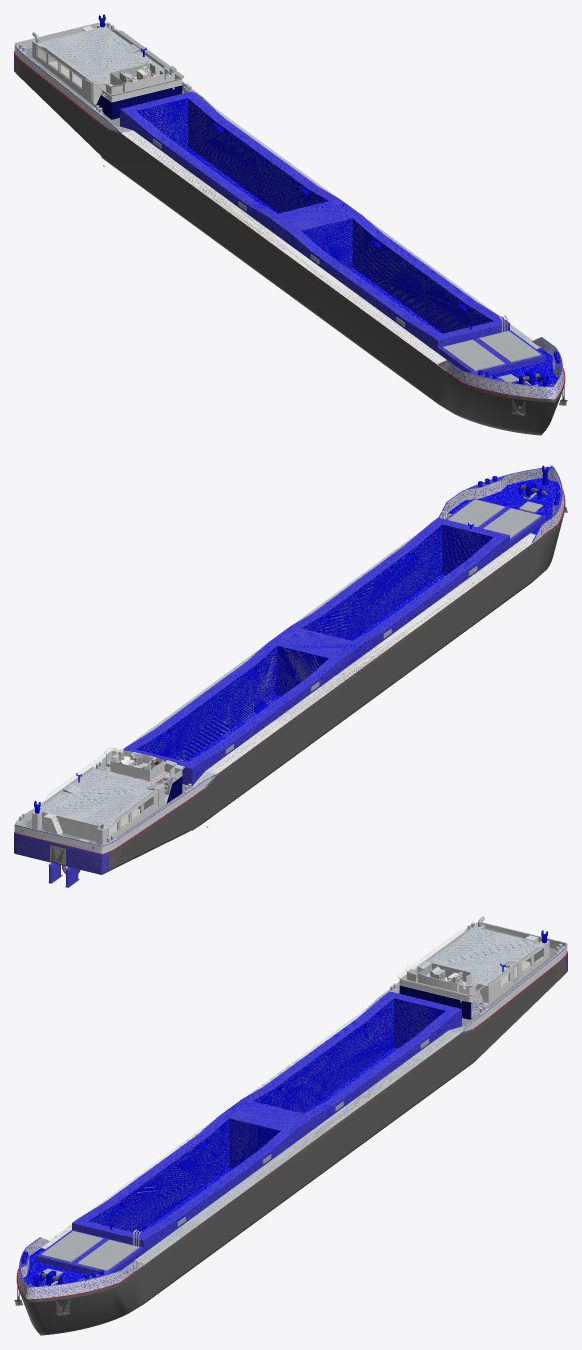
File: barge_ship.glb
The picture shows the model from 3 angles, top to bottom: view 1: azimuth 30°, elevation 25°; view 2: azimuth 150°, elevation 25°; view 3: azimuth 330°, elevation 25°; orthographic projection.
Parts seen in each view (by area): view 1: SketchUp.131, SketchUp.133, SketchUp.135, SketchUp.134, SketchUp.169, SketchUp.006, SketchUp.043, SketchUp.070, SketchUp.190, instance_54, instance_58, SketchUp.175 (+4 smaller); view 2: SketchUp.131, SketchUp.133, SketchUp.134, SketchUp.135, SketchUp.169, SketchUp.006, SketchUp.043, SketchUp.070, SketchUp.088, SketchUp.159, SketchUp.132, instance_59 (+5 smaller); view 3: SketchUp.131, SketchUp.133, SketchUp.135, SketchUp.134, SketchUp.175, SketchUp.006, SketchUp.043, SketchUp.070, SketchUp.190, instance_54, instance_58, SketchUp.169 (+4 smaller).
Part boxes in pixels (left/top/right/bottom): SketchUp.131: left=24, top=67, right=561, bottom=435; SketchUp.133: left=120, top=91, right=545, bottom=375; SketchUp.135: left=136, top=98, right=328, bottom=213; SketchUp.134: left=301, top=218, right=493, bottom=333; SketchUp.169: left=117, top=126, right=446, bottom=364; SketchUp.006: left=33, top=25, right=163, bottom=83; SketchUp.043: left=32, top=24, right=184, bottom=106; SketchUp.070: left=15, top=56, right=565, bottom=402; SketchUp.190: left=437, top=360, right=564, bottom=399; instance_54: left=479, top=331, right=540, bottom=362; instance_58: left=442, top=339, right=504, bottom=371; SketchUp.175: left=215, top=110, right=540, bottom=348; SketchUp.131: left=121, top=517, right=563, bottom=863; SketchUp.133: left=123, top=498, right=545, bottom=785; SketchUp.134: left=301, top=524, right=493, bottom=640; SketchUp.135: left=136, top=645, right=328, bottom=761; SketchUp.169: left=192, top=533, right=535, bottom=786; SketchUp.006: left=33, top=769, right=162, bottom=829; SketchUp.043: left=32, top=750, right=184, bottom=845; SketchUp.070: left=62, top=505, right=565, bottom=874; SketchUp.088: left=14, top=833, right=108, bottom=874; SketchUp.159: left=448, top=478, right=560, bottom=534; SketchUp.132: left=439, top=468, right=561, bottom=518; instance_59: left=104, top=747, right=176, bottom=783; SketchUp.131: left=20, top=967, right=557, bottom=1335; SketchUp.133: left=36, top=991, right=461, bottom=1275; SketchUp.135: left=253, top=998, right=445, bottom=1113; SketchUp.134: left=88, top=1118, right=280, bottom=1233; SketchUp.175: left=135, top=1026, right=464, bottom=1264; SketchUp.006: left=418, top=925, right=548, bottom=985; SketchUp.043: left=397, top=924, right=549, bottom=1006; SketchUp.070: left=16, top=956, right=566, bottom=1302; SketchUp.190: left=17, top=1260, right=143, bottom=1299; instance_54: left=77, top=1239, right=139, bottom=1271; instance_58: left=41, top=1231, right=102, bottom=1262; SketchUp.169: left=41, top=1010, right=366, bottom=1248.
Size of the model in its own units: 390 by 252 by 3359.
39 materials, 17 textured.
